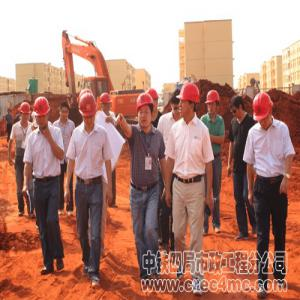none: (230, 94, 245, 119), (171, 91, 182, 117), (60, 103, 70, 122), (8, 109, 11, 115)
red: (254, 92, 274, 130), (179, 82, 200, 117), (137, 91, 155, 131), (79, 95, 97, 128), (35, 97, 50, 130), (207, 90, 221, 114), (147, 89, 159, 115), (20, 103, 31, 123), (101, 93, 112, 113)
